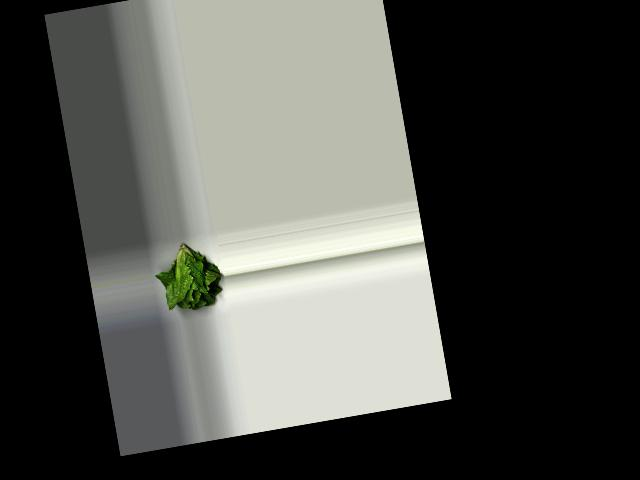lettuce: (151, 236, 226, 315)
